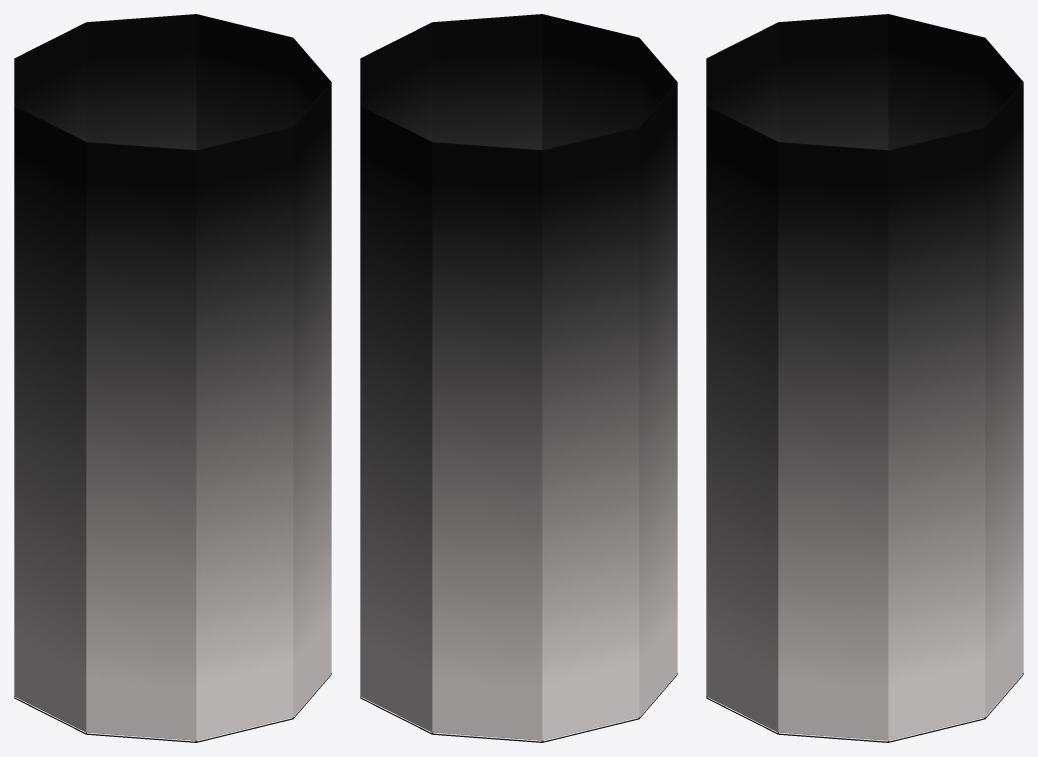
File: beams.fbx
3 views of the same model, side by side, from view 1: azimuth 30°, elevation 25°; view 2: azimuth 150°, elevation 25°; view 3: azimuth 270°, elevation 25° (orthographic).
Parts seen in each view (by area): view 1: Cylinder; view 2: Cylinder; view 3: Cylinder.
Boxes of the visible parts, <box> form: Cylinder: <box>14,14,331,742</box>; Cylinder: <box>360,14,677,742</box>; Cylinder: <box>706,14,1023,742</box>.
Size of the model in its own units: 197 by 400 by 194.
